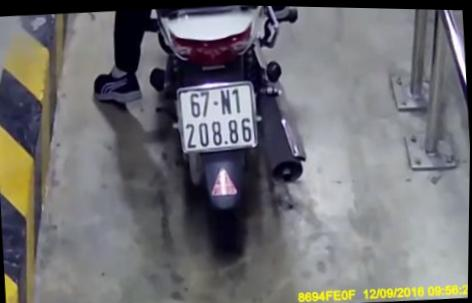LP: (176, 81, 258, 152)
